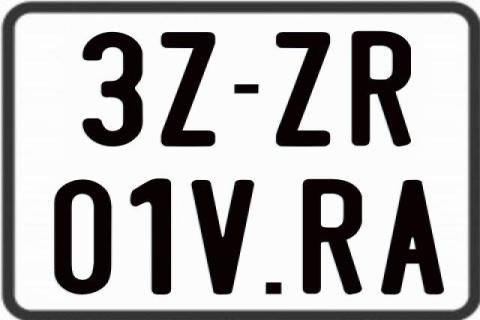0: (52, 178, 115, 296), (82, 32, 146, 148), (129, 178, 176, 298)
A: (381, 178, 450, 294)
R: (302, 177, 364, 295), (349, 31, 408, 149)
V: (191, 178, 254, 294)
Z: (161, 31, 221, 149), (275, 31, 334, 147)
